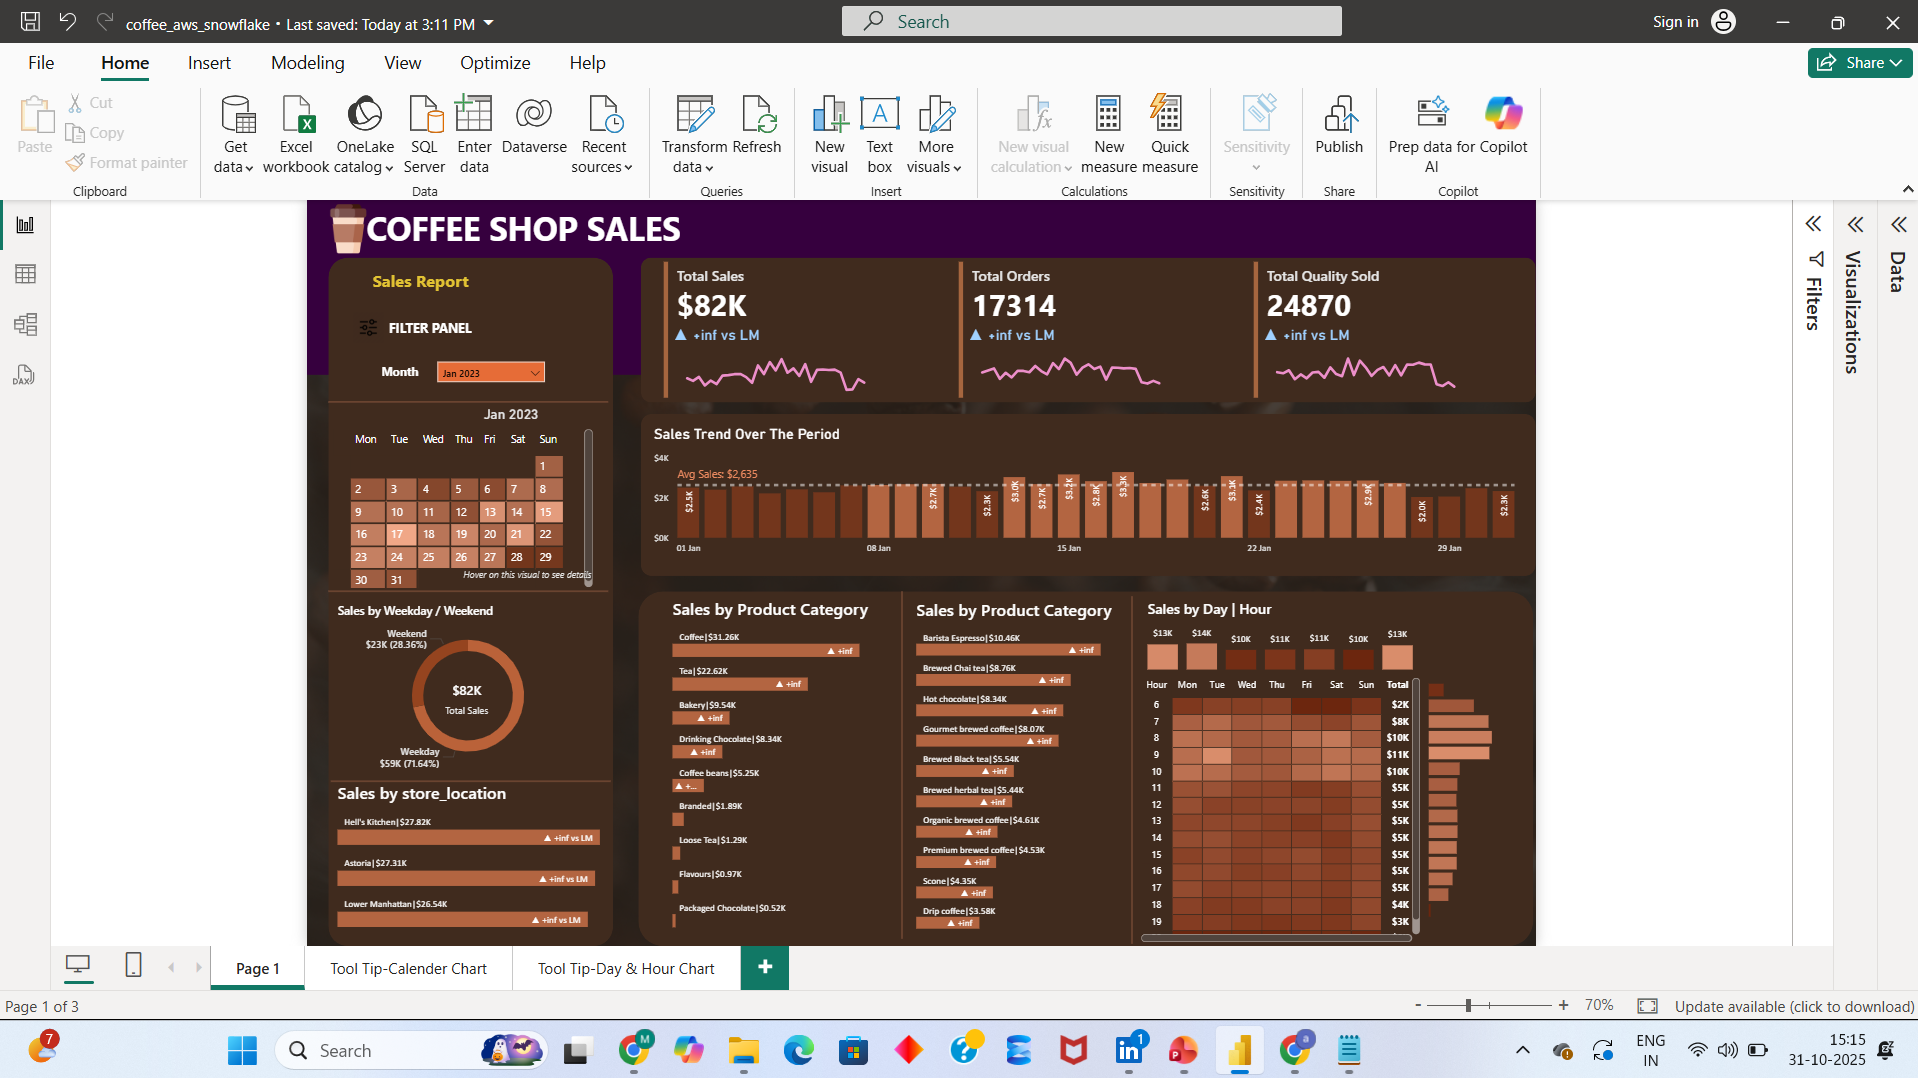

Layout of this report page (visuals, bound fields, positions):
{"tool":"powerbi","page":{"name":"Page 1","canvas":[1400,850],"ordinal":0},"visuals":[{"type":"shape","box":[0,0,1400.1,199.4],"z":0},{"type":"shape","box":[24.2,65.5,324.7,784.8],"z":1000},{"type":"shape","box":[380.3,65.5,1019.8,165.2],"z":2000},{"type":"textbox","box":[62.7,1.4,377.4,64.1],"z":3000},{"type":"slicer","fields":{"Values":["Date Table.Month Year"]},"box":[143.9,179.5,132.5,37],"z":4000},{"type":"group","id":"g1","title":"Group 1","box":[401.6,65.5,309.1,165.2],"z":5000},{"type":"cardVisual","fields":{"Data":["Transactions.Total Sales"]},"box":[401.6,65.5,250.7,165.2],"z":5000,"group":"g1"},{"type":"cardVisual","fields":{"Data":["Transactions.Total Orders"]},"box":[737.8,65.5,250.7,165.2],"z":5000,"group":"g2"},{"type":"cardVisual","fields":{"Data":["Transactions.Total Quality Sold"]},"box":[1073.9,65.5,250.7,165.2],"z":5000,"group":"g3"},{"type":"group","id":"g2","title":"Group 1","box":[737.8,65.5,309.1,165.2],"z":6000},{"type":"group","id":"g3","title":"Group 1","box":[1073.9,65.5,309.1,165.2],"z":7000},{"type":"lineChart","fields":{"Category":["Date Table.Date.Variation.Date Hierarchy.Year","Date Table.Date.Variation.Date Hierarchy.Quarter","Date Table.Date.Variation.Date Hierarchy.Month","Date Table.Date.Variation.Date Hierarchy.Day"],"Y":["Transactions.Total Sales"]},"box":[411.6,142.4,299.1,81.2],"z":7000,"group":"g1"},{"type":"lineChart","fields":{"Category":["Date Table.Date.Variation.Date Hierarchy.Year","Date Table.Date.Variation.Date Hierarchy.Quarter","Date Table.Date.Variation.Date Hierarchy.Month","Date Table.Date.Variation.Date Hierarchy.Day"],"Y":["Transactions.Total Orders"]},"box":[747.8,142.4,299.1,81.2],"z":7000,"group":"g2"},{"type":"lineChart","fields":{"Category":["Date Table.Date.Variation.Date Hierarchy.Year","Date Table.Date.Variation.Date Hierarchy.Quarter","Date Table.Date.Variation.Date Hierarchy.Month","Date Table.Date.Variation.Date Hierarchy.Day"],"Y":["Transactions.Total Quality Sold"]},"box":[1083.9,142.4,299.1,81.2],"z":7000,"group":"g3"},{"type":"pivotTable","fields":{"Rows":["Date Table.Week Number"],"Columns":["Date Table.Day Name"],"Values":["Min(Date Table.Day Number)"]},"box":[25.6,256.4,304.8,189.4],"z":8000},{"type":"card","fields":{"Values":["Min(Date Table.Month Year)"]},"box":[178,220.8,109.7,48.4],"z":9000},{"type":"card","fields":{"Values":["Transactions.Foot Note"]},"box":[159.5,413,183.7,32.8],"z":10000},{"type":"shape","box":[24.2,428.7,319,34.2],"z":11000},{"type":"shape","box":[24.2,216.5,319,27.1],"z":12000},{"type":"donutChart","title":"Sales by Weekday / Weekend","fields":{"Category":["Date Table.Weekday / Weekend"],"Y":["Transactions.Total Sales"]},"box":[29.9,458.6,307.6,195.1],"z":13000},{"type":"card","fields":{"Values":["Transactions.Total Sales"]},"box":[143.9,538.4,76.9,58.4],"z":14000},{"type":"clusteredBarChart","title":" Sales by store_location","fields":{"Category":["Transactions.store_location"],"Y":["Transactions.Placeholder","Transactions.Total Sales"]},"box":[29.9,662.3,333.3,173.8],"z":15000},{"type":"shape","box":[27.1,645.2,319,34.2],"z":16000},{"type":"shape","box":[380.3,243.6,1019.8,185.2],"z":17000},{"type":"columnChart","title":"Sales Trend Over The Period","fields":{"Category":["Transactions.transaction_date"],"Y":["Transactions.Total Sales"]},"box":[390.3,256.4,992.7,156.7],"z":18000},{"type":"shape","box":[377.4,445.8,1019.8,404.5],"z":19000},{"type":"clusteredBarChart","title":" Sales by Product Category","fields":{"Y":["Transactions.Placeholder","Transactions.Total Sales"],"Category":["Transactions.product_category"]},"box":[411.6,452.9,250.7,381.7],"z":20000},{"type":"shape","box":[645.2,445.8,65.5,395.9],"z":21000},{"type":"clusteredBarChart","title":" Sales by Product Category","fields":{"Y":["Transactions.Placeholder","Transactions.Total Sales"],"Category":["Transactions.product_type"]},"box":[689.3,454.3,250.7,381.7],"z":22000},{"type":"shape","box":[907.3,451.5,65.5,395.9],"z":23000},{"type":"image","box":[14.2,0,65.5,65.5],"z":24000},{"type":"pivotTable","fields":{"Rows":["Transactions.Hour"],"Columns":["Date Table.Day Name"],"Values":["Transactions.Total Sales"]},"box":[945.7,539.8,327.6,310.5],"z":25000},{"type":"barChart","fields":{"Category":["Transactions.Hour"],"Y":["Transactions.Total Sales"]},"box":[1273.3,538.4,112.5,283.4],"z":26000},{"type":"columnChart","title":"Sales by Day | Hour","fields":{"Y":["Transactions.Total Sales"],"Category":["Date Table.Day Name"]},"box":[952.8,454.3,313.3,86.9],"z":27000},{"type":"textbox","box":[79.8,180.9,64.1,34.2],"z":28000},{"type":"textbox","box":[69.8,74.1,176.6,49.8],"z":29000},{"type":"textbox","box":[88.3,131,132.5,48.4],"z":30000},{"type":"image","box":[47,122.5,45.6,45.6],"z":31000}]}

Visuals, with their boxes on the page's 1400x850 design canvas (x1, y1, x2, y2). These are canvas units, not pixel positions in the 1918x1078 screenshot, which may show the page scaled, cropped or inside an application window:
shape: bbox(0, 0, 1400, 199)
shape: bbox(24, 66, 349, 850)
shape: bbox(380, 66, 1400, 231)
textbox: bbox(63, 1, 440, 66)
slicer - Date Table.Month Year: bbox(144, 180, 276, 216)
"Group 1" group: bbox(402, 66, 711, 231)
cardVisual - Transactions.Total Sales: bbox(402, 66, 652, 231)
cardVisual - Transactions.Total Orders: bbox(738, 66, 988, 231)
cardVisual - Transactions.Total Quality Sold: bbox(1074, 66, 1325, 231)
"Group 1" group: bbox(738, 66, 1047, 231)
"Group 1" group: bbox(1074, 66, 1383, 231)
lineChart - Date Table.Date.Variation.Date Hierarchy.Year x Date Table.Date.Variation.Date Hierarchy.Quarter: bbox(412, 142, 711, 224)
lineChart - Date Table.Date.Variation.Date Hierarchy.Year x Date Table.Date.Variation.Date Hierarchy.Quarter: bbox(748, 142, 1047, 224)
lineChart - Date Table.Date.Variation.Date Hierarchy.Year x Date Table.Date.Variation.Date Hierarchy.Quarter: bbox(1084, 142, 1383, 224)
pivotTable - Date Table.Week Number x Date Table.Day Name: bbox(26, 256, 330, 446)
card - Min(Date Table.Month Year): bbox(178, 221, 288, 269)
card - Transactions.Foot Note: bbox(160, 413, 343, 446)
shape: bbox(24, 429, 343, 463)
shape: bbox(24, 216, 343, 244)
"Sales by Weekday / Weekend" donutChart: bbox(30, 459, 338, 654)
card - Transactions.Total Sales: bbox(144, 538, 221, 597)
" Sales by store_location" clusteredBarChart: bbox(30, 662, 363, 836)
shape: bbox(27, 645, 346, 679)
shape: bbox(380, 244, 1400, 429)
"Sales Trend Over The Period" columnChart: bbox(390, 256, 1383, 413)
shape: bbox(377, 446, 1397, 850)
" Sales by Product Category" clusteredBarChart: bbox(412, 453, 662, 835)
shape: bbox(645, 446, 711, 842)
" Sales by Product Category" clusteredBarChart: bbox(689, 454, 940, 836)
shape: bbox(907, 452, 973, 847)
image: bbox(14, 0, 80, 66)
pivotTable - Transactions.Hour x Date Table.Day Name: bbox(946, 540, 1273, 850)
barChart - Transactions.Hour x Transactions.Total Sales: bbox(1273, 538, 1386, 822)
"Sales by Day | Hour" columnChart: bbox(953, 454, 1266, 541)
textbox: bbox(80, 181, 144, 215)
textbox: bbox(70, 74, 246, 124)
textbox: bbox(88, 131, 221, 179)
image: bbox(47, 122, 93, 168)
